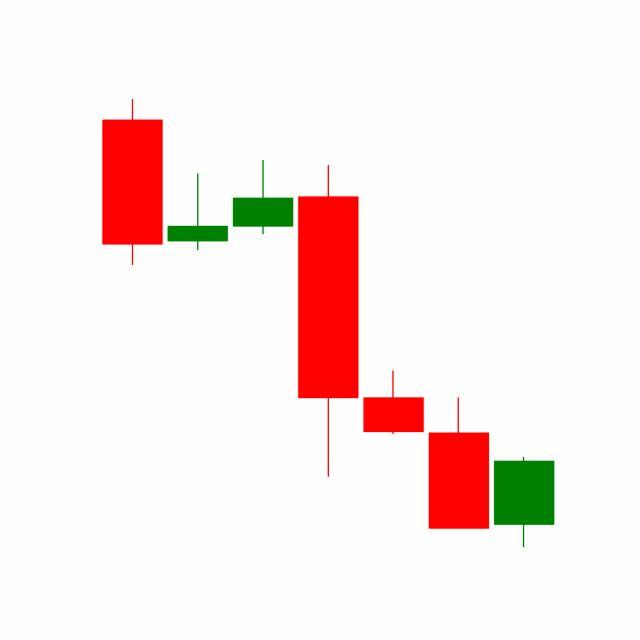Hikkake Pattern: (165, 156, 492, 533)
